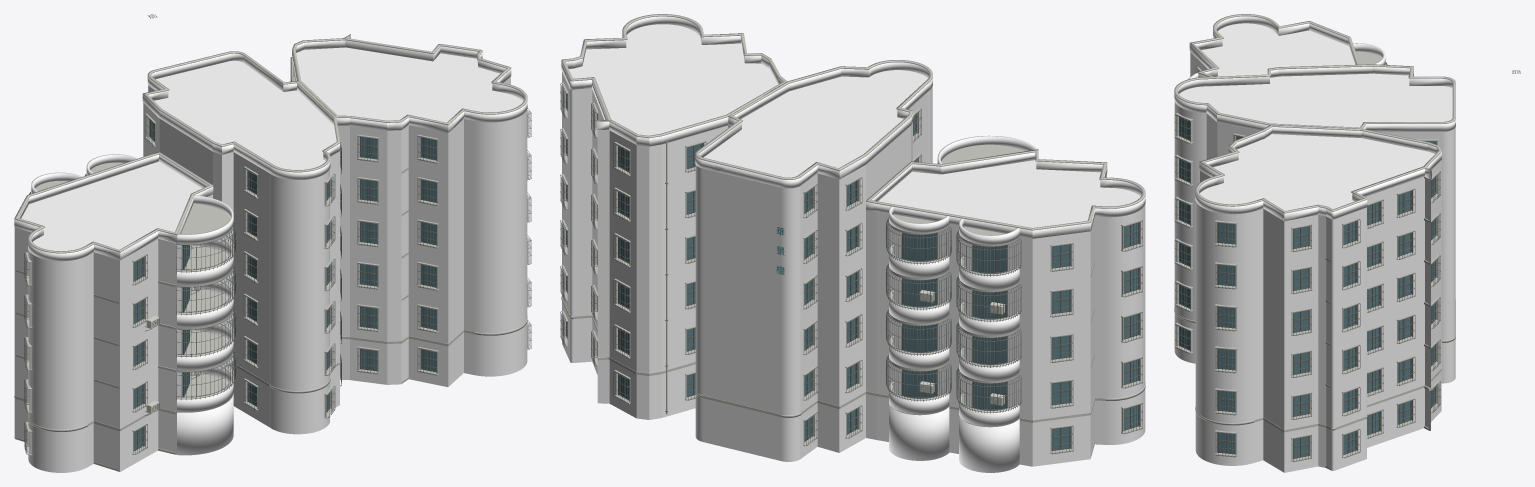
File: sushe.glb
The picture shows the model from 3 angles, left to right: view 1: azimuth 30°, elevation 25°; view 2: azimuth 150°, elevation 25°; view 3: azimuth 270°, elevation 25°; orthographic projection. The views are drawn at different scales.
Parts seen in each view (by area): view 1: 6F, 5F, 2F, 4F, 3F, 1F; view 2: 6F, 5F, 2F, 3F, 4F, 1F; view 3: 6F, 5F, 2F, 4F, 3F, 1F.
Boxes of the visible parts, <box> form: 6F: <box>142,34,531,222</box>; 5F: <box>14,145,531,303</box>; 2F: <box>14,277,531,430</box>; 4F: <box>14,192,531,345</box>; 3F: <box>14,235,531,388</box>; 1F: <box>14,320,531,472</box>; 6F: <box>560,14,932,233</box>; 5F: <box>560,116,1145,290</box>; 2F: <box>560,253,1145,427</box>; 3F: <box>560,207,1145,381</box>; 4F: <box>560,162,1145,335</box>; 1F: <box>560,298,1145,472</box>; 6F: <box>1174,64,1455,262</box>; 5F: <box>1174,14,1455,304</box>; 2F: <box>1174,268,1455,430</box>; 4F: <box>1174,184,1455,346</box>; 3F: <box>1174,226,1455,388</box>; 1F: <box>1174,311,1455,472</box>.
Size of the model in its own units: 38.44 by 21 by 23.18.
